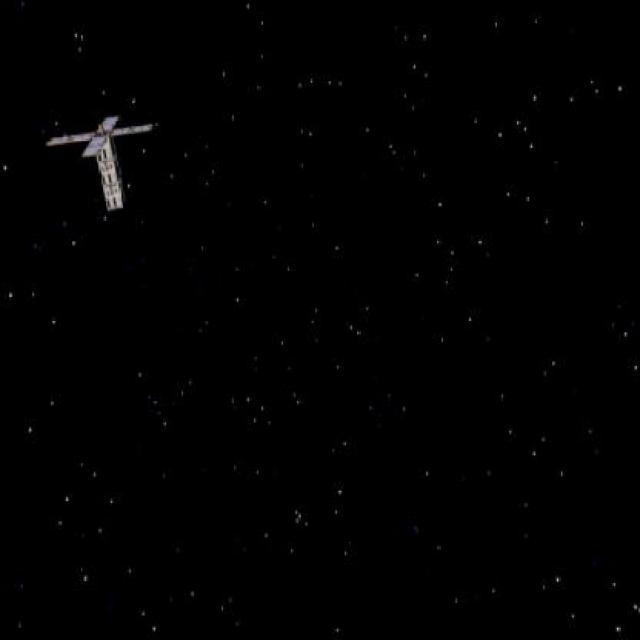medium_debris: (38, 98, 165, 227)
